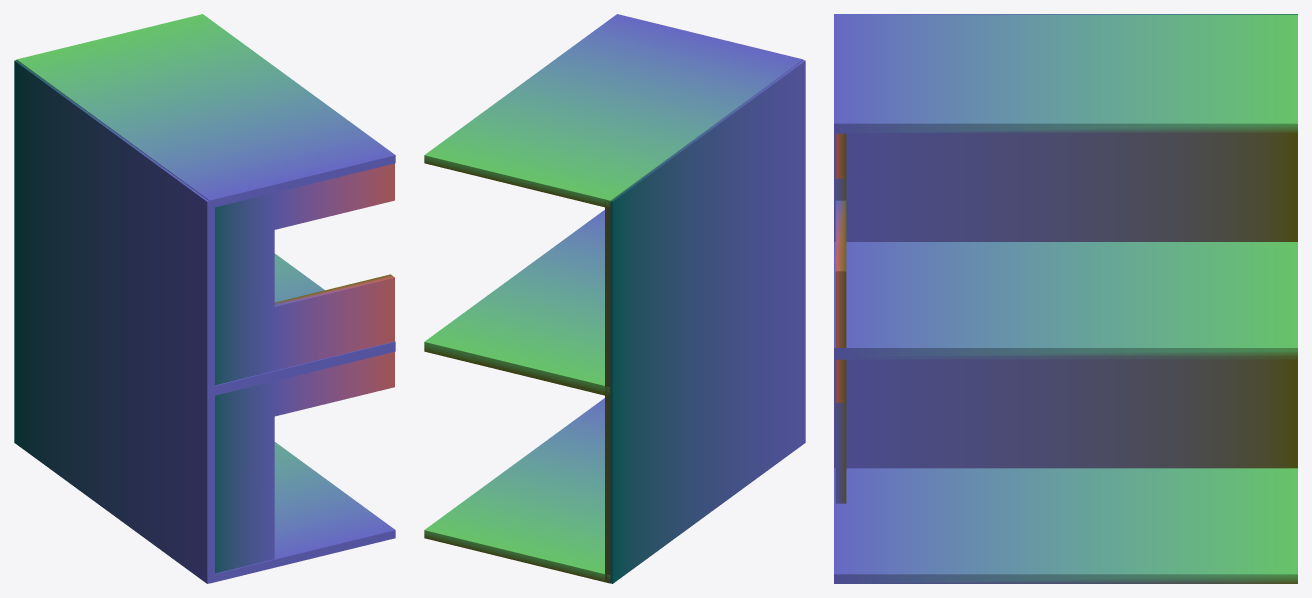
Rendered from House_2s_In_Door.fbx.
3 views of the same model, side by side, from view 1: azimuth 30°, elevation 25°; view 2: azimuth 150°, elevation 25°; view 3: azimuth 270°, elevation 25° (orthographic). The views are drawn at different scales.
Visible parts, largest first — view 1: House_2s_In_Door; view 2: House_2s_In_Door; view 3: House_2s_In_Door.
Boxes of the visible parts, bbox=[...] form: House_2s_In_Door: bbox=[14, 14, 395, 583]; House_2s_In_Door: bbox=[424, 14, 805, 583]; House_2s_In_Door: bbox=[834, 14, 1297, 583].
Bounding box in the file's own units: 6.92 × 13.44 × 12.27.
